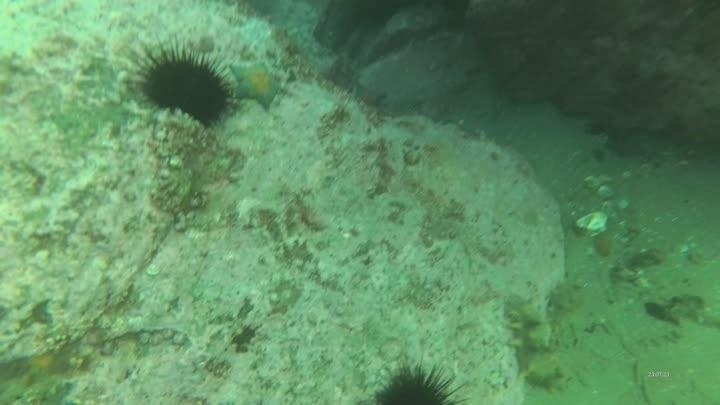echinus: (133, 42, 236, 128), (368, 357, 466, 404)
holothurian: (504, 295, 570, 393), (542, 279, 594, 354)
starfish: (226, 58, 287, 113)
